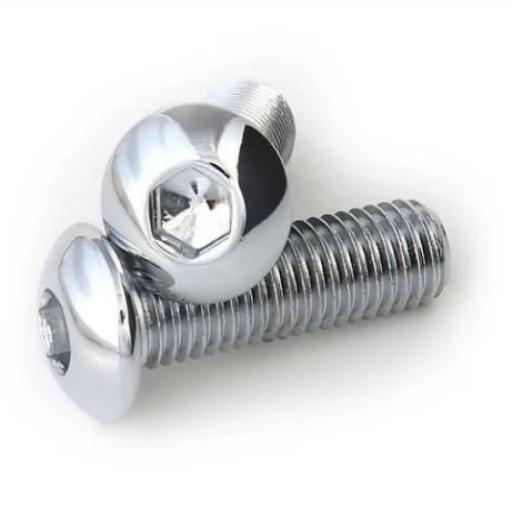Hex-Allen: (100, 105, 291, 304)
